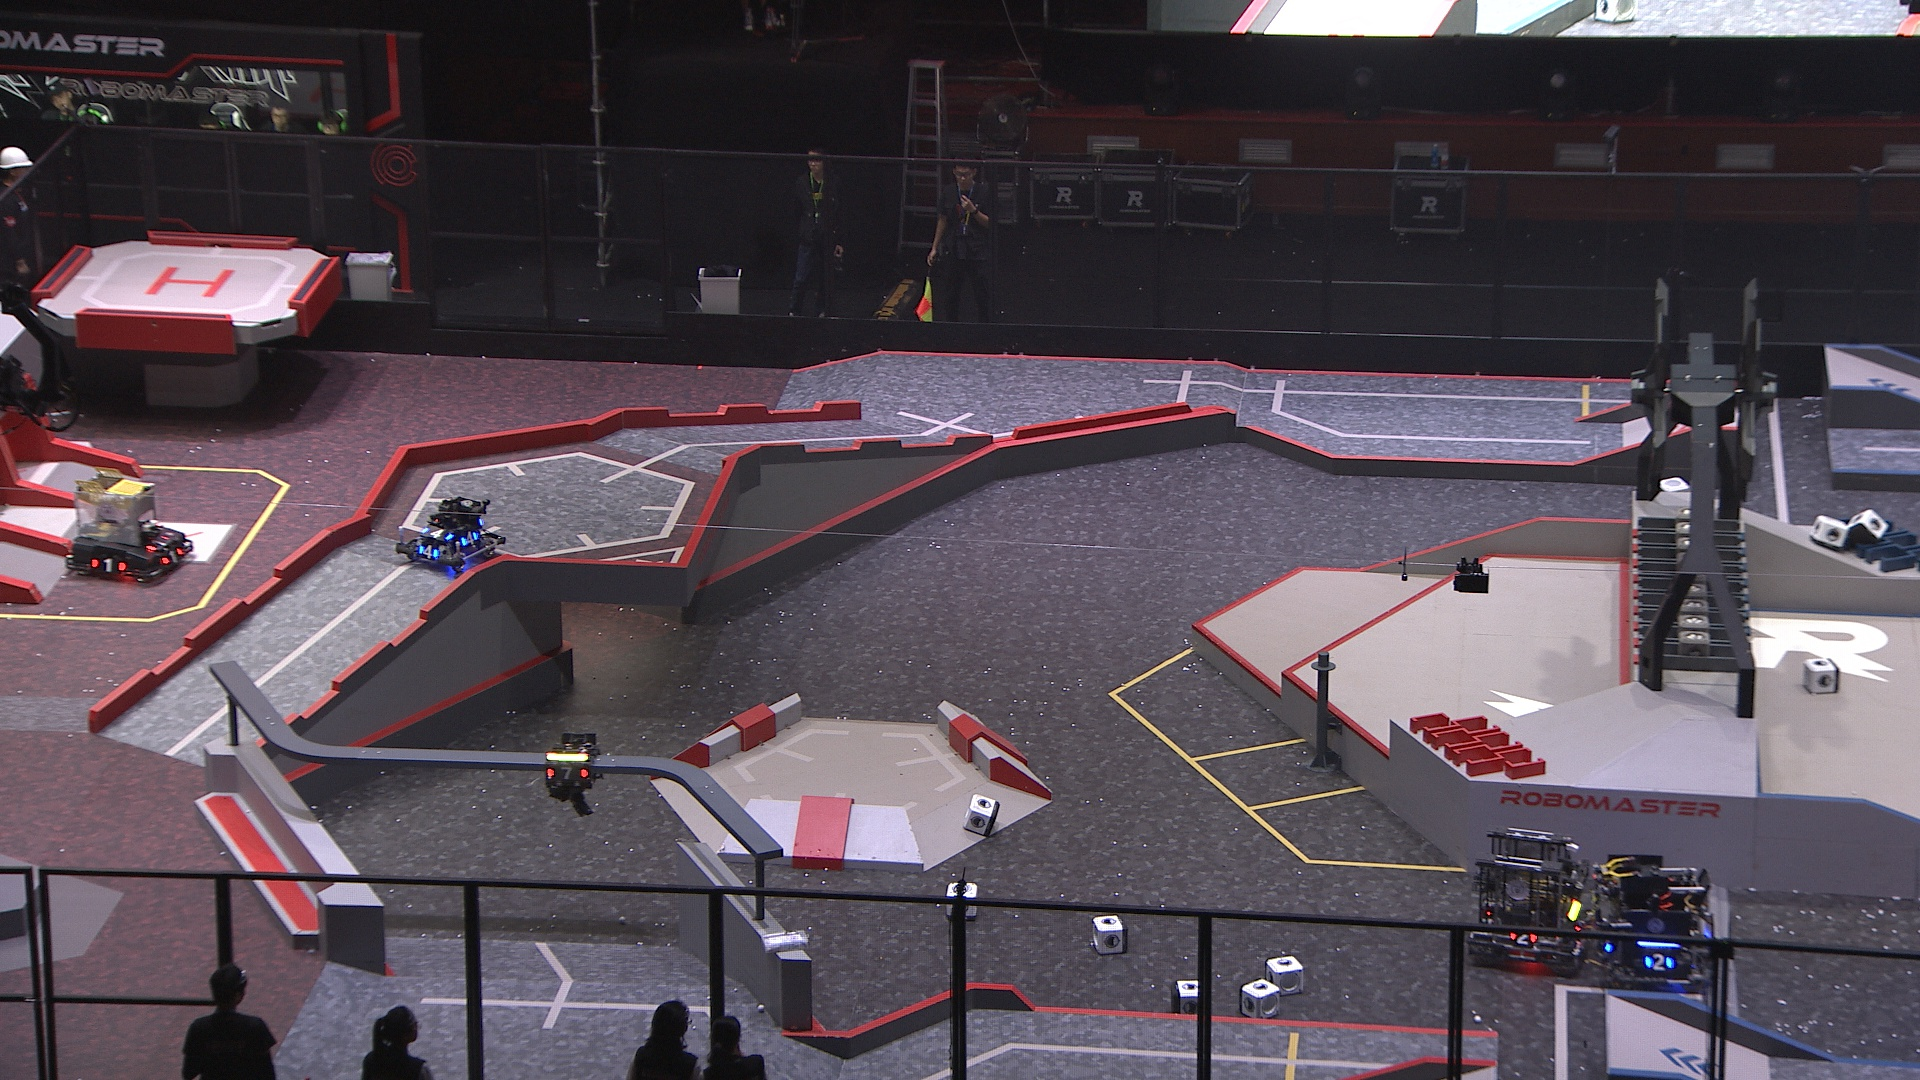armor: (545, 764, 593, 783), (1643, 951, 1676, 975), (90, 556, 128, 576), (419, 524, 455, 543), (156, 545, 185, 567), (1509, 924, 1538, 945), (145, 531, 169, 553), (458, 529, 479, 549), (418, 542, 439, 560)
car: (1462, 827, 1592, 969), (1593, 849, 1718, 986), (63, 472, 200, 589), (394, 491, 510, 572)
watcher: (539, 731, 609, 815)
